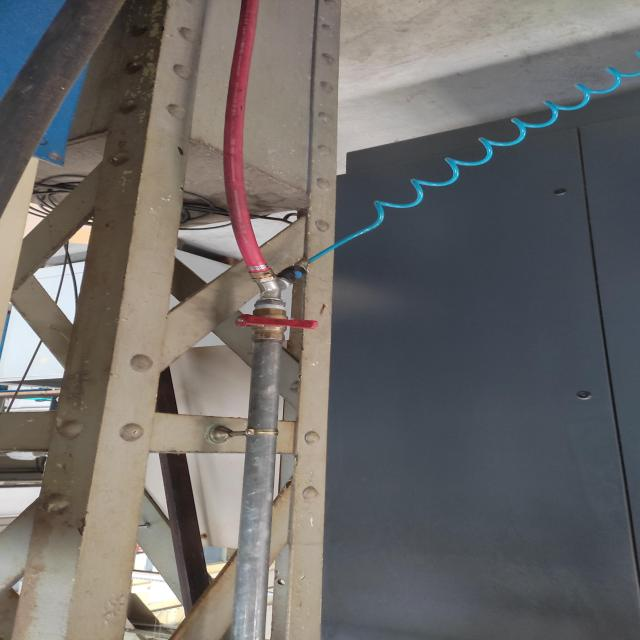closed_valve: (232, 306, 322, 342)
